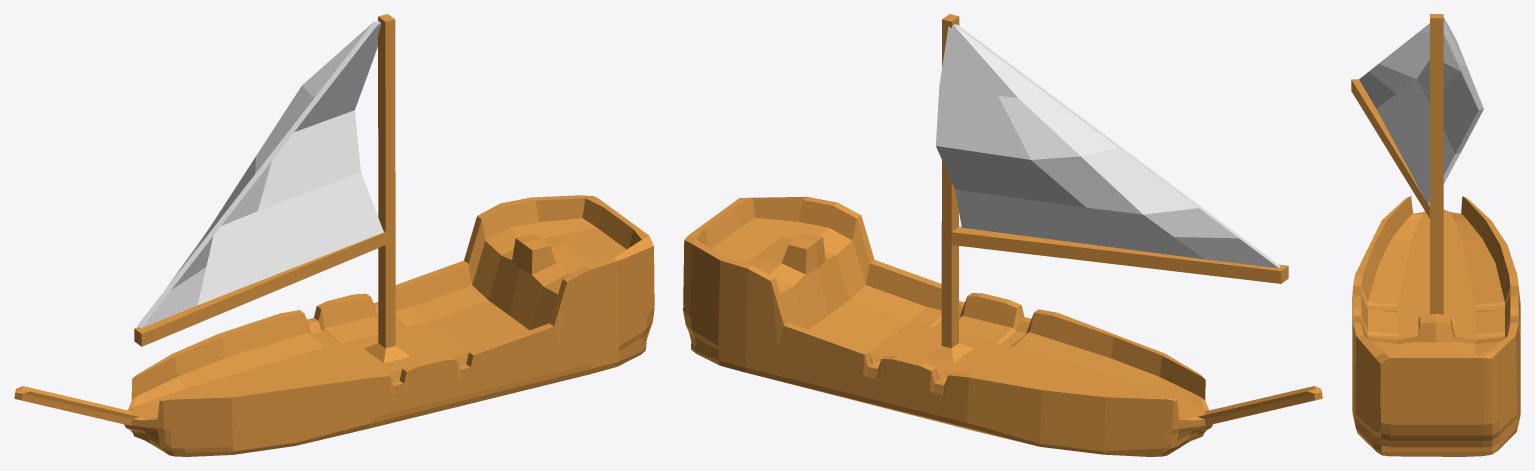
File: cutter.glb
3 views of the same model, side by side, from view 1: azimuth 30°, elevation 25°; view 2: azimuth 150°, elevation 25°; view 3: azimuth 270°, elevation 25° (orthographic). The views are drawn at different scales.
Parts seen in each view (by area): view 1: Cube; view 2: Cube; view 3: Cube.
Boxes of the visible parts, box(x1,y1,x2,y2) form: Cube: box(14, 14, 654, 456); Cube: box(683, 14, 1322, 456); Cube: box(1351, 14, 1520, 456).
Size of the model in its own units: 23.04 by 13.66 by 6.04.
